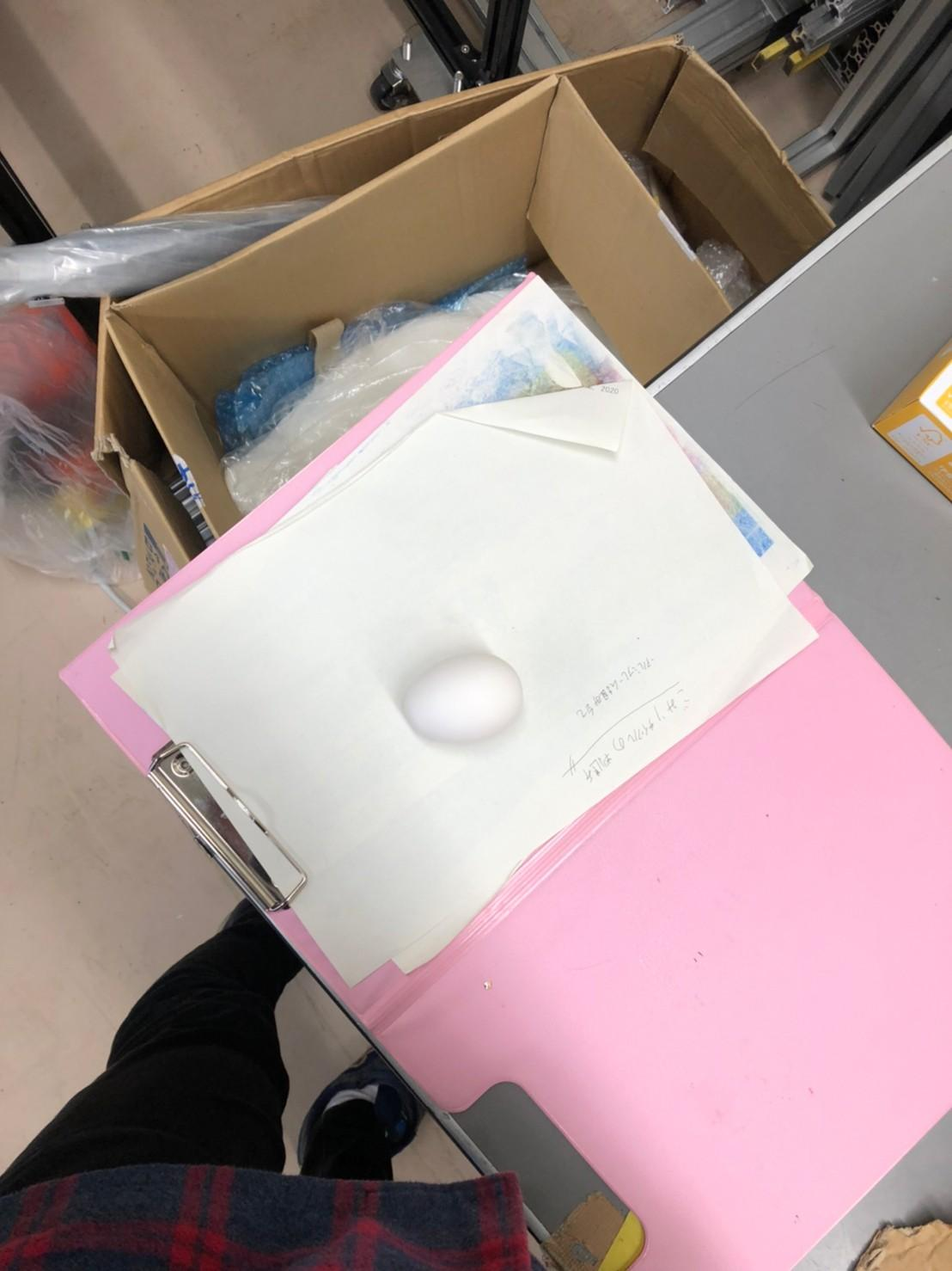egg: (397, 645, 530, 750)
